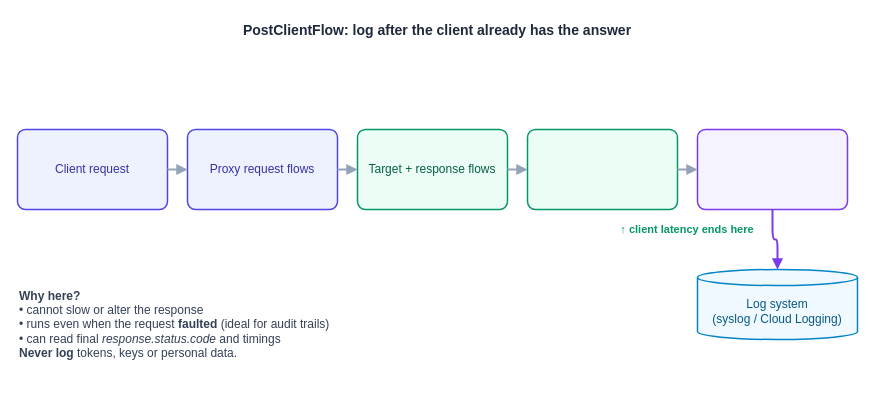
This 876x396 diagram has some shape labels left out. The box of each missing label's shape, as (x1, y1, x2, y2) in pixels:
PostClientFlow MessageLogging: (696, 128, 848, 210)
Response sent to client: (526, 128, 678, 210)
